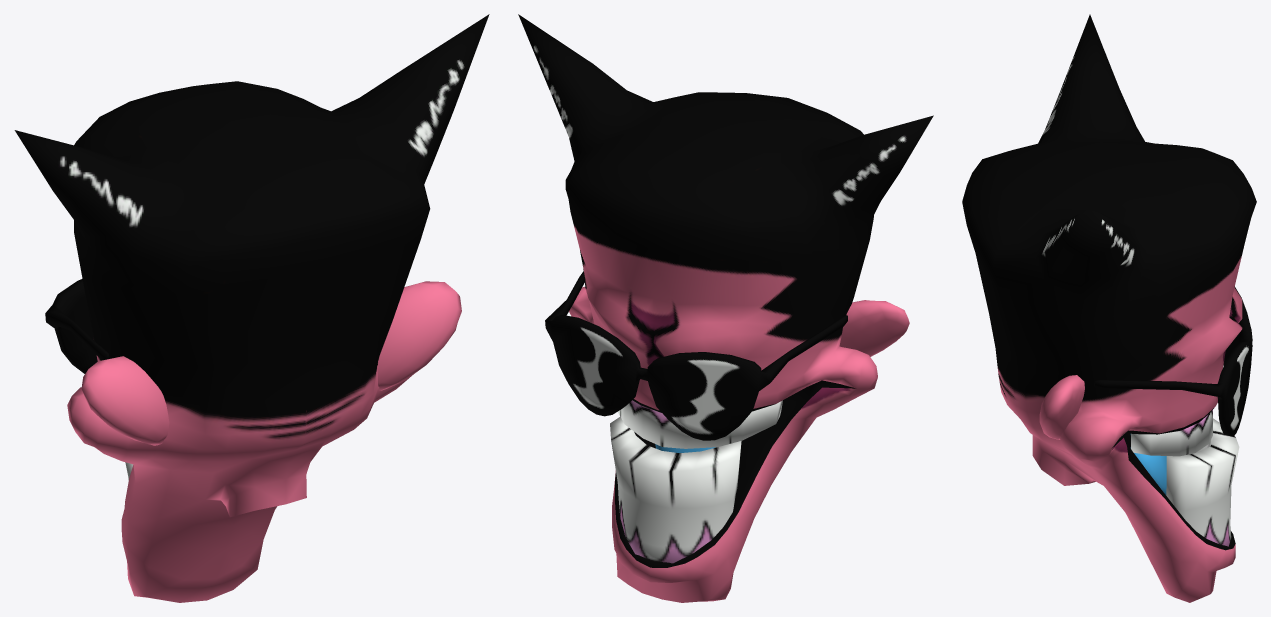
File: henchman.glb
The picture shows the model from 3 angles, left to right: view 1: azimuth 30°, elevation 25°; view 2: azimuth 150°, elevation 25°; view 3: azimuth 270°, elevation 25°; orthographic projection. The views are drawn at different scales.
Visible parts, largest first — view 1: Henchman head; view 2: Henchman head; view 3: Henchman head.
Part boxes in pixels (bbox=[...]): Henchman head: bbox=[14, 14, 489, 602]; Henchman head: bbox=[518, 14, 933, 602]; Henchman head: bbox=[962, 14, 1256, 602].
Size of the model in its own units: 2.74 by 3.11 by 1.74.
Materials: 1 (1 with a texture image).
